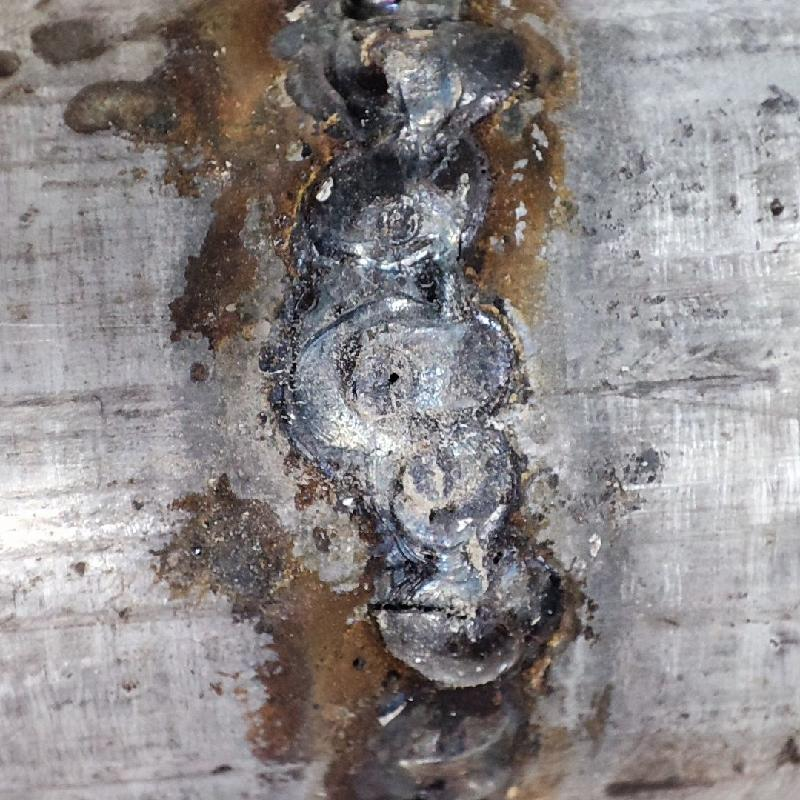Not_fully_soldered: (279, 268, 523, 676)
Surface_pores: (356, 347, 422, 417)
wrong_size: (281, 4, 518, 262)
